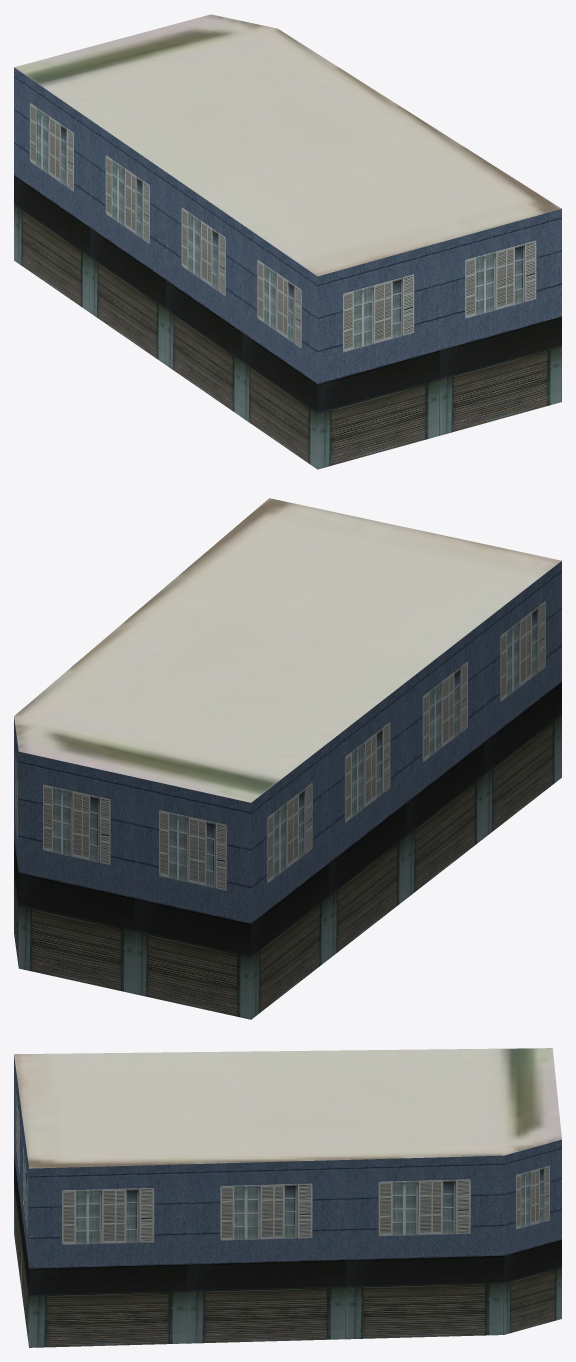
File: T_1T0U54NUWT.dae
3 views of the same model, one above another, from view 1: azimuth 30°, elevation 25°; view 2: azimuth 150°, elevation 25°; view 3: azimuth 270°, elevation 25° (orthographic). The views are drawn at different scales.
Parts seen in each view (by area): view 1: SketchUp (×5); view 2: SketchUp (×5); view 3: SketchUp (×7).
Boxes of the visible parts, x1,y1,x2,y2 form: SketchUp (×5): [14, 14, 561, 469]; SketchUp (×5): [14, 498, 561, 1019]; SketchUp (×7): [14, 1048, 561, 1347].
Size of the model in its own units: 10.75 by 20.66 by 7.46.
Materials: 3 (3 with a texture image).
